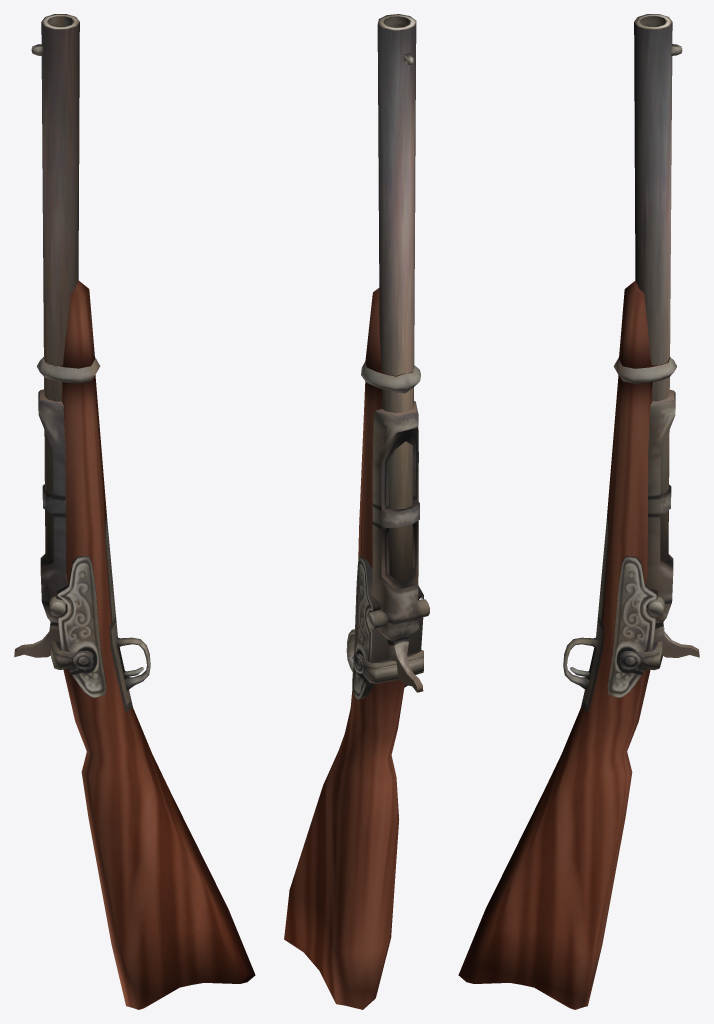
File: Rifle.FBX
The picture shows the model from 3 angles, left to right: view 1: azimuth 90°, elevation 25°; view 2: azimuth 210°, elevation 25°; view 3: azimuth 270°, elevation 25°; orthographic projection. The views are drawn at different scales.
Visible parts, largest first — view 1: Rifle; view 2: Rifle; view 3: Rifle.
Part boxes in pixels (bbox=[...]): Rifle: bbox=[14, 14, 255, 1009]; Rifle: bbox=[284, 14, 429, 1009]; Rifle: bbox=[458, 14, 699, 1009].
Bounding box in the file's own units: 0.1261 × 2.24 × 0.497.
